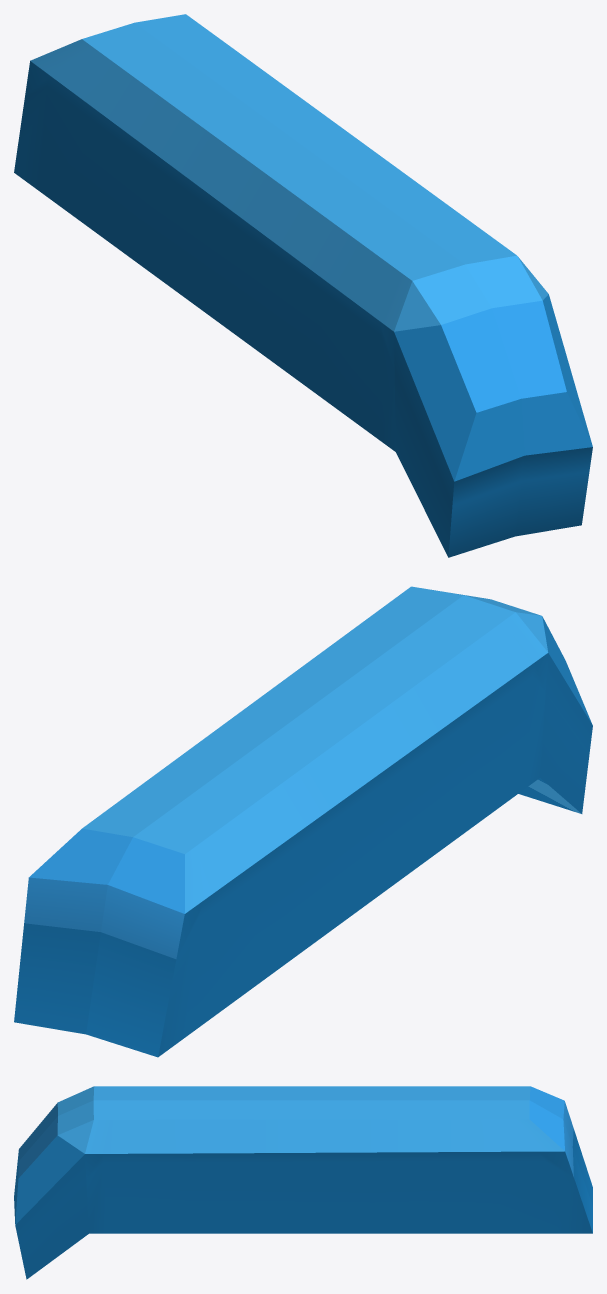
Rendered from PinSection.fbx.
3 views of the same model, one above another, from view 1: azimuth 30°, elevation 25°; view 2: azimuth 150°, elevation 25°; view 3: azimuth 270°, elevation 25° (orthographic). The views are drawn at different scales.
Visible parts, largest first — view 1: polySurface50; view 2: polySurface50; view 3: polySurface50.
Boxes of the visible parts, x1,y1,x2,y2 form: polySurface50: (14,14,592,557); polySurface50: (14,586,592,1057); polySurface50: (14,1086,592,1279).
Size of the model in its own units: 0.1637 by 0.241 by 0.7996.
Materials: 1 (1 with a texture image).
